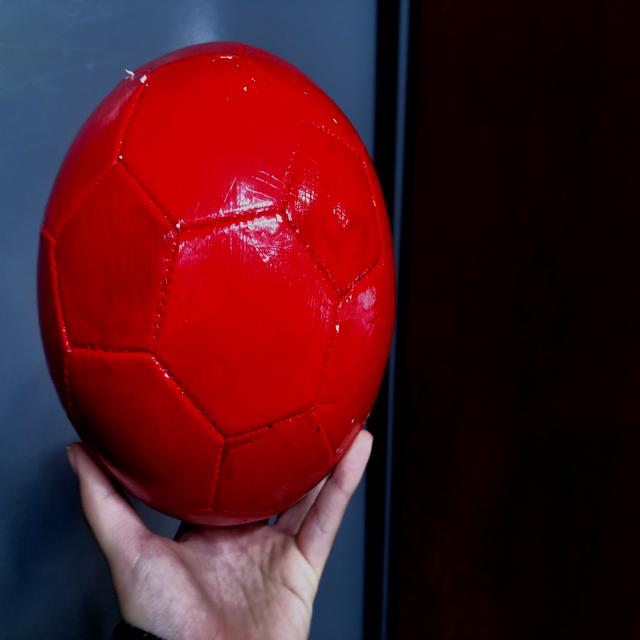red_ball: (36, 39, 398, 528)
